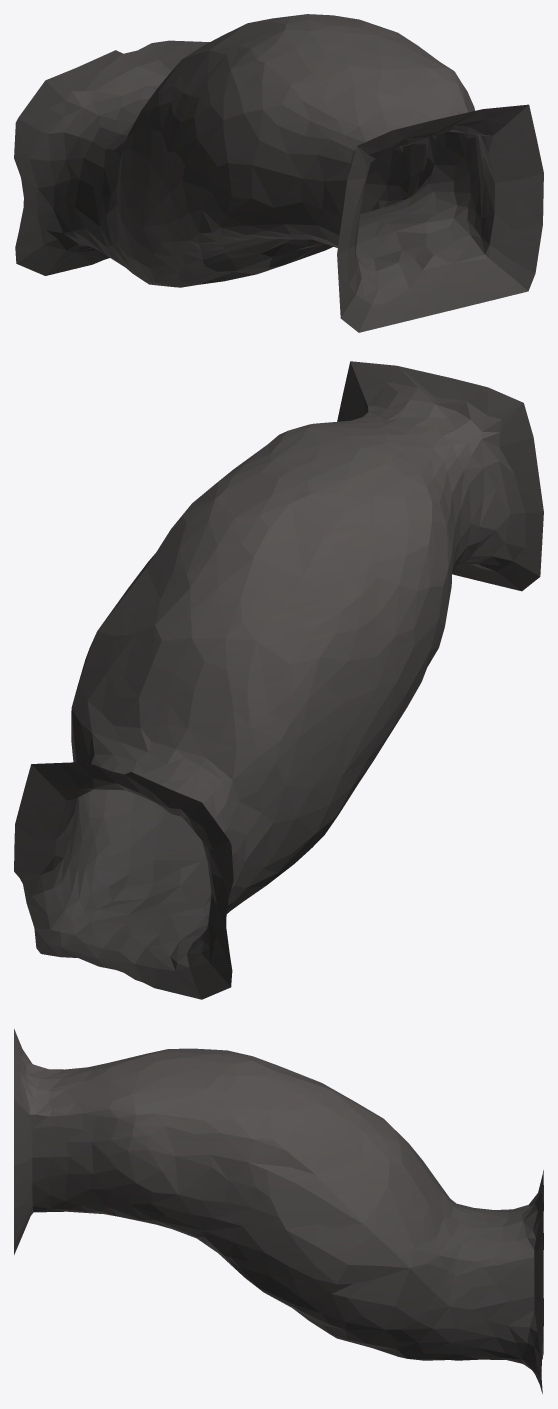
File: ZLP_Cave_A_4.FBX
The picture shows the model from 3 angles, top to bottom: view 1: azimuth 30°, elevation 25°; view 2: azimuth 150°, elevation 25°; view 3: azimuth 270°, elevation 25°; orthographic projection. The views are drawn at different scales.
Visible parts, largest first — view 1: ZLP_Cave_A_4; view 2: ZLP_Cave_A_4; view 3: ZLP_Cave_A_4.
Boxes of the visible parts, left/top/right/bottom form: ZLP_Cave_A_4: left=14, top=14, right=543, bottom=332; ZLP_Cave_A_4: left=14, top=361, right=543, bottom=999; ZLP_Cave_A_4: left=14, top=1029, right=543, bottom=1393.
Size of the model in its own units: 2030 by 2643 by 4096.
